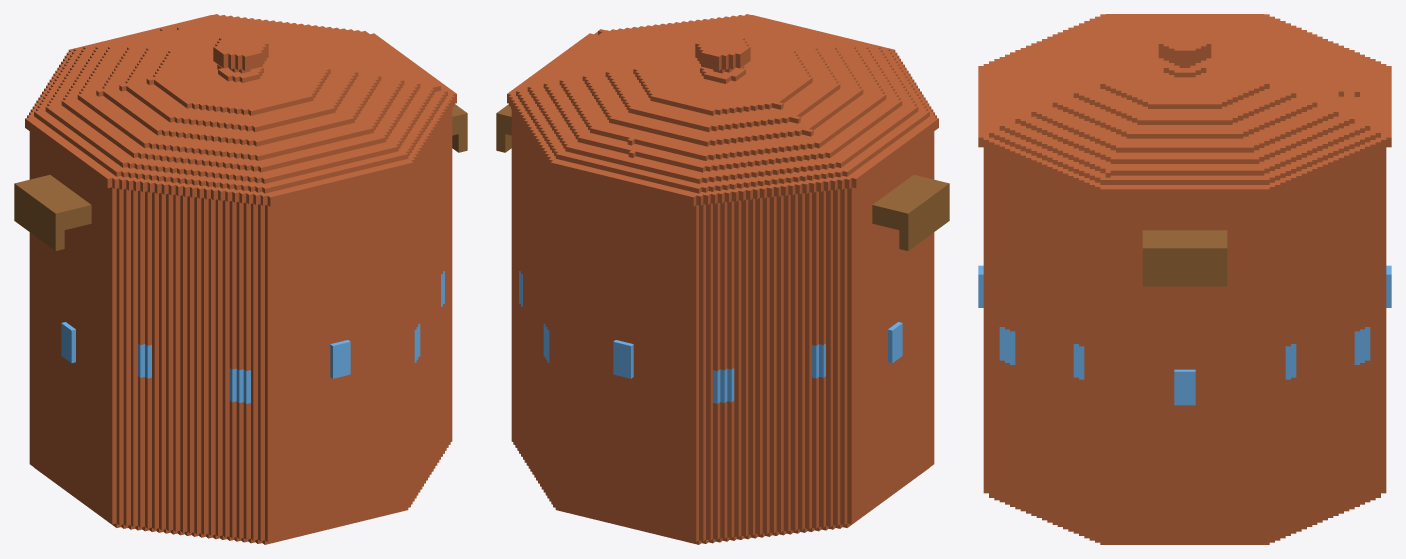
Rendered from cauldron_orichalcum.glb.
3 views of the same model, side by side, from view 1: azimuth 30°, elevation 25°; view 2: azimuth 150°, elevation 25°; view 3: azimuth 270°, elevation 25° (orthographic). The views are drawn at different scales.
Visible parts, largest first — view 1: cauldron_orichalcum:compound; view 2: cauldron_orichalcum:compound; view 3: cauldron_orichalcum:compound.
Boxes of the visible parts, bbox=[...] form: cauldron_orichalcum:compound: bbox=[14, 14, 467, 544]; cauldron_orichalcum:compound: bbox=[496, 14, 949, 544]; cauldron_orichalcum:compound: bbox=[978, 14, 1391, 544].
Bounding box in the file's own units: 0.368 × 0.352 × 0.312.
